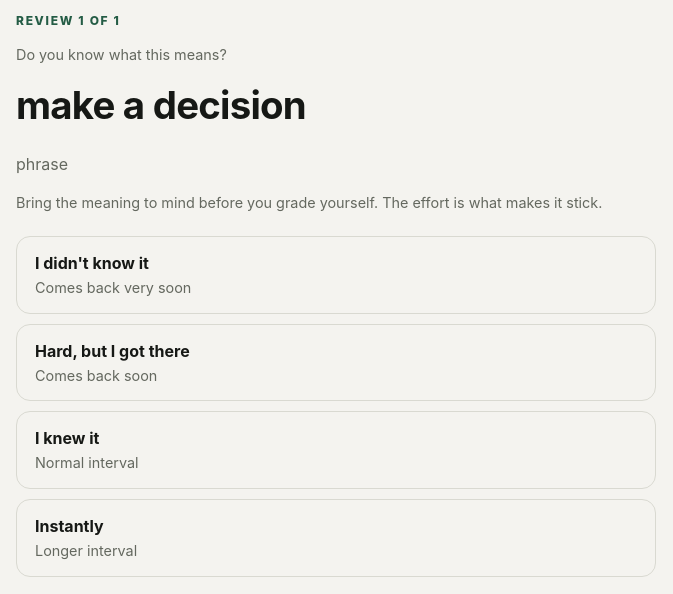
it: retrieval before reveal › reveals the meaning only after grading
This screenshot has width=673, height=594.
Check: the heading "make a decision" is shown, box [16, 82, 306, 128]
Click the button "I knew it Normal interval" at (67, 438), box [16, 411, 656, 489]
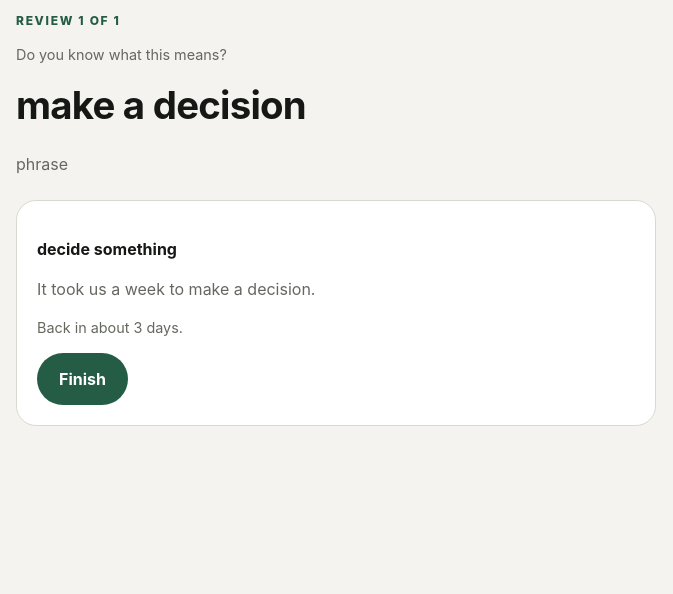
Check: the text "decide something" is shown, box [37, 239, 177, 259]
Check: the text "It took us a week to make a decision." is shown, box [37, 279, 316, 299]
